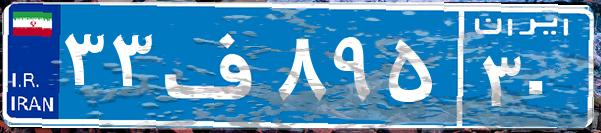0: (525, 38, 570, 115)
3: (57, 26, 110, 107), (475, 38, 525, 113), (110, 28, 158, 105)
5: (385, 28, 445, 110)
8: (273, 28, 330, 110)
9: (330, 28, 385, 110)
ف: (158, 15, 273, 115)
